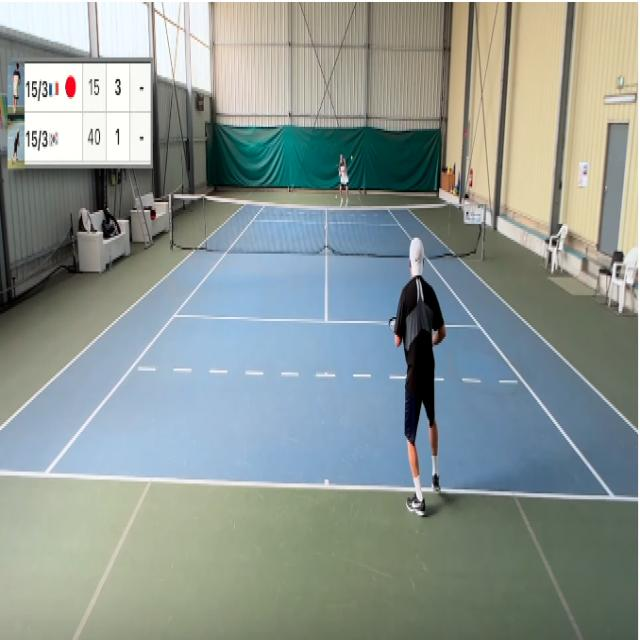ball: (334, 193, 338, 200), (351, 154, 354, 161), (294, 193, 296, 197)
